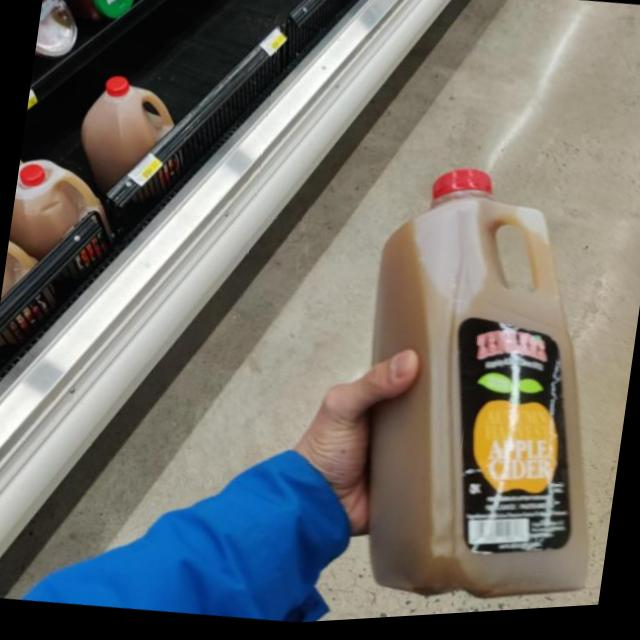Juice: (340, 156, 640, 619), (72, 72, 196, 210), (3, 152, 122, 287)
